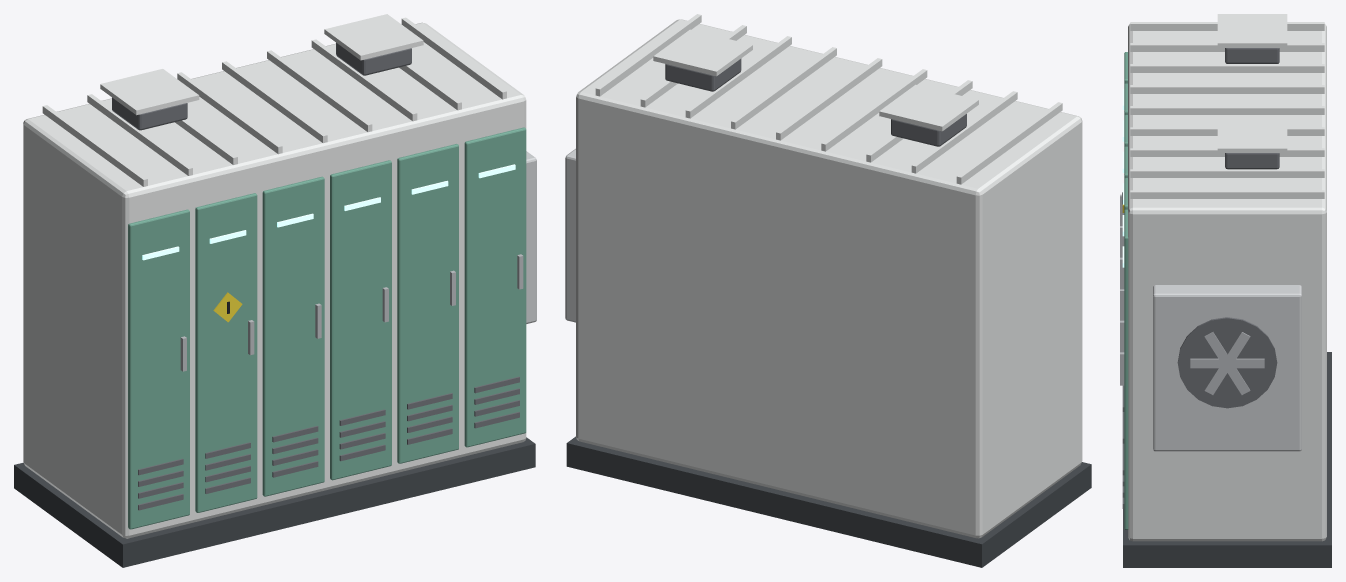
Rendered from bess.fbx.
The picture shows the model from 3 angles, left to right: view 1: azimuth 30°, elevation 25°; view 2: azimuth 150°, elevation 25°; view 3: azimuth 270°, elevation 25°; orthographic projection. The views are drawn at different scales.
Parts seen in each view (by area): view 1: bess; view 2: bess; view 3: bess.
Part boxes in pixels (x1=…): bess: x1=14, y1=14, x2=536, y2=567; bess: x1=565, y1=14, x2=1091, y2=567; bess: x1=1120, y1=14, x2=1331, y2=567.
Size of the model in its own units: 1.94 by 1.73 by 0.852.
